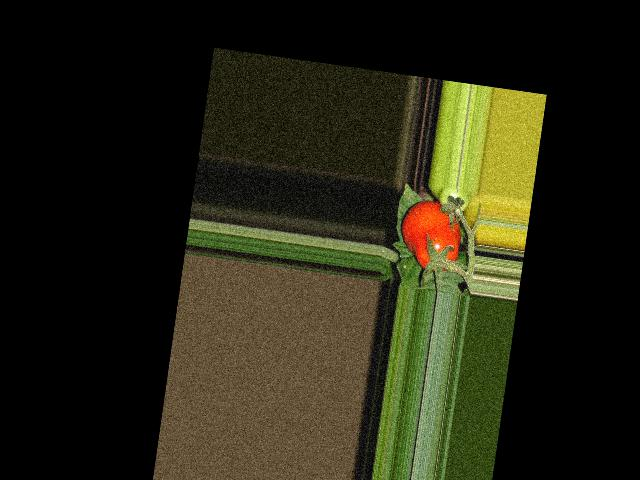tomato: (396, 197, 465, 274)
